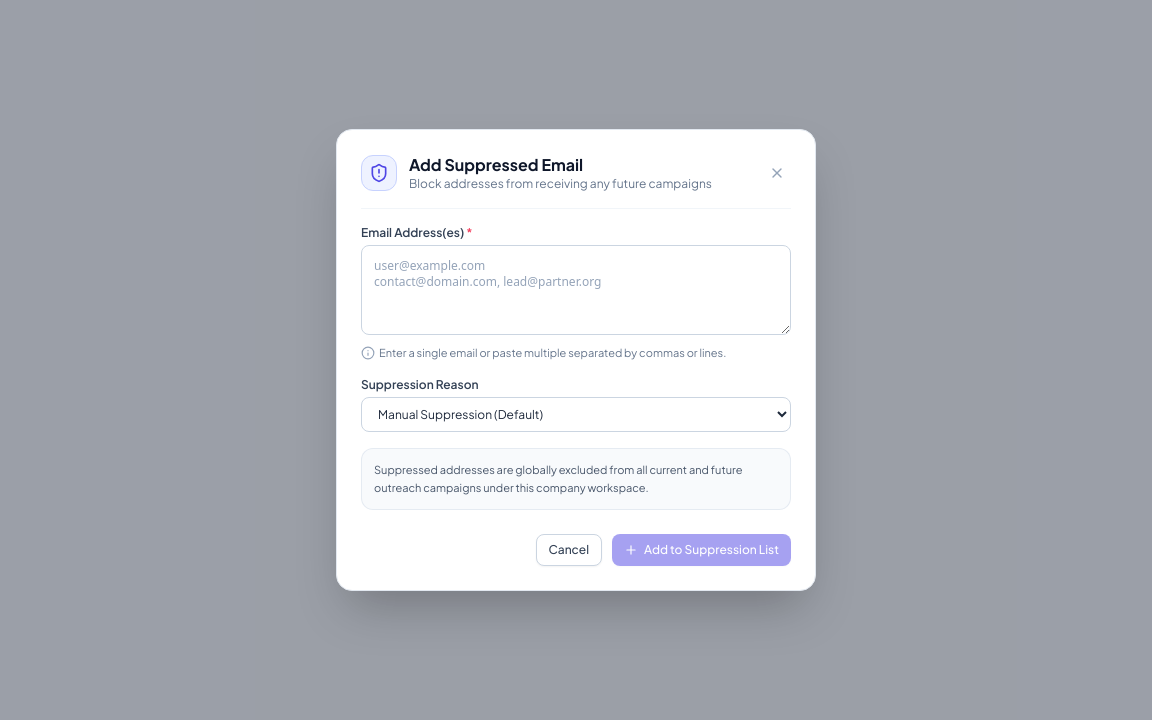
Test: AddSuppressionModal Component › validates empty or invalid email input
This screenshot has width=1152, height=720.
Expected: the button "Add to Suppression List" is disabled, x1=612 y1=534 x2=791 y2=566
# Type invalid email
Type "invalid-not-an-email" into the text box labelled "Email Address(es) *" at (576, 290), box x1=361 y1=245 x2=791 y2=335
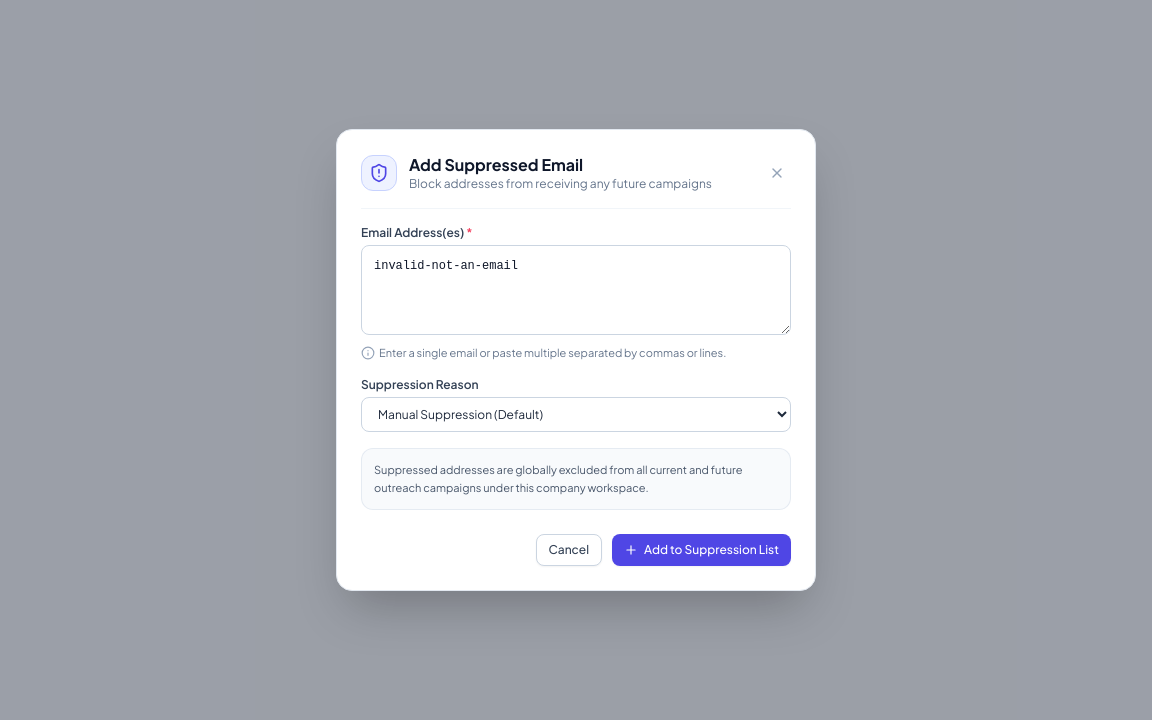
Expected: the button "Add to Suppression List" is enabled
Click the button "Add to Suppression List" at (702, 550), box x1=612 y1=534 x2=791 y2=566
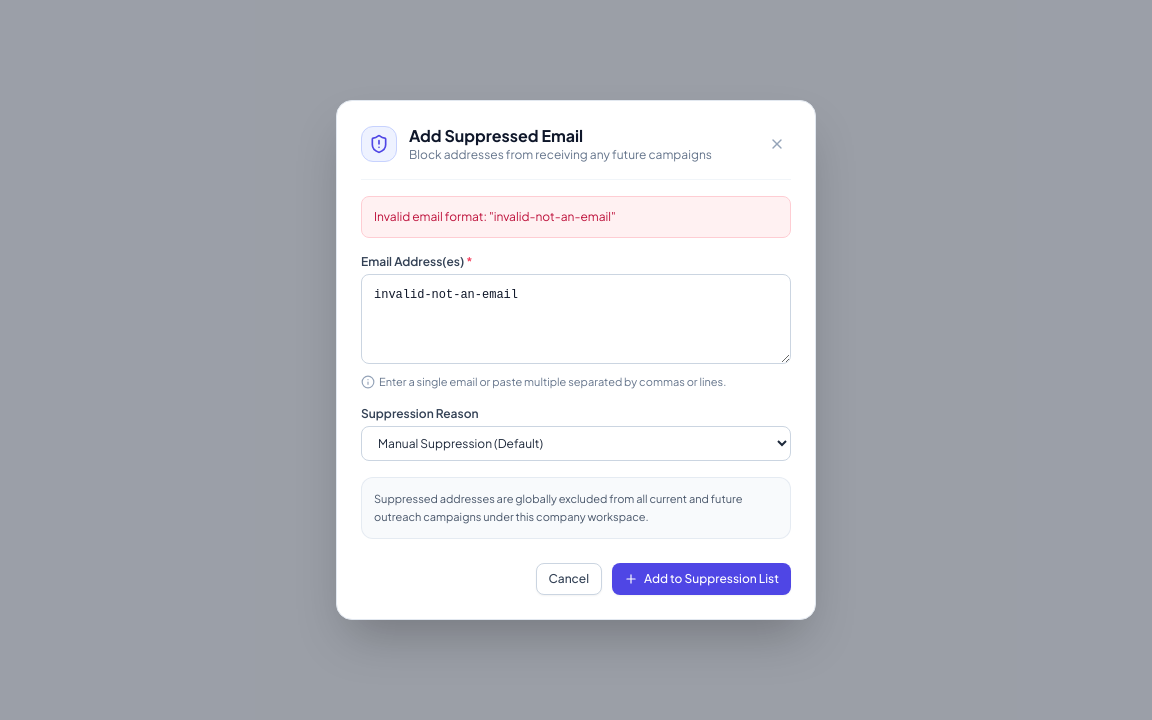
Expected: the text "Invalid email format: \"invalid-not-an-email\"" is shown, x1=361 y1=196 x2=791 y2=238
